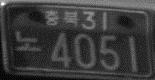0: (73, 33, 96, 69)
1: (126, 35, 139, 74), (100, 11, 109, 32)
3: (81, 10, 96, 30)
4: (50, 31, 72, 69)
5: (99, 35, 120, 71)
노: (14, 30, 42, 54)
충북_O: (45, 9, 79, 30)
